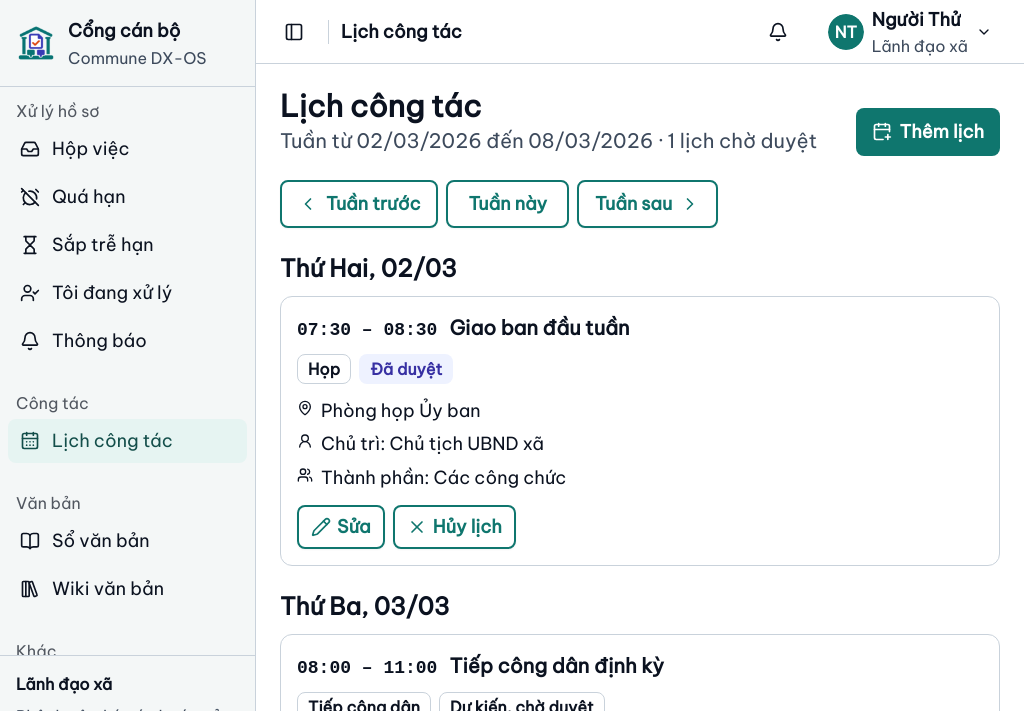
Test case: lịch công tác (#117) › trùng địa điểm: hiện câu tiếng Việt của CSDL (400, mã 23P01)
The width and height of the screenshot is (1024, 711).
Click the button "Thêm lịch".
click(928, 132)  # box top-left (856, 108), bottom-right (1000, 156)
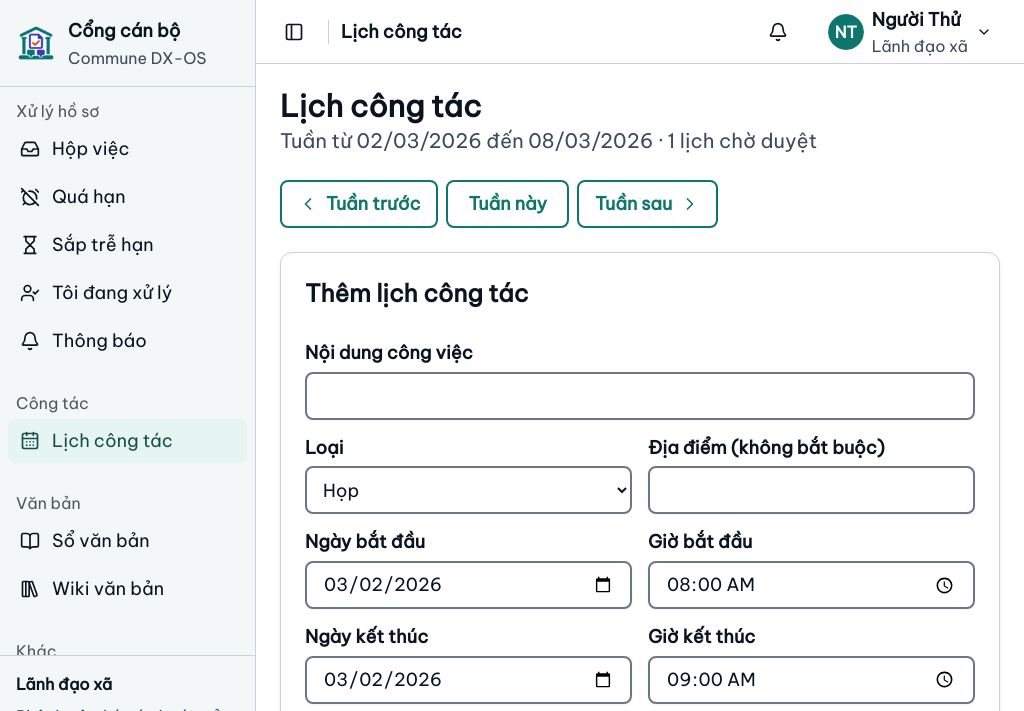
Type "Họp trùng phòng" into the field labelled "Nội dung công việc".
click(640, 396); type("Họp trùng phòng")  # box top-left (305, 372), bottom-right (975, 420)
(page scrolled)
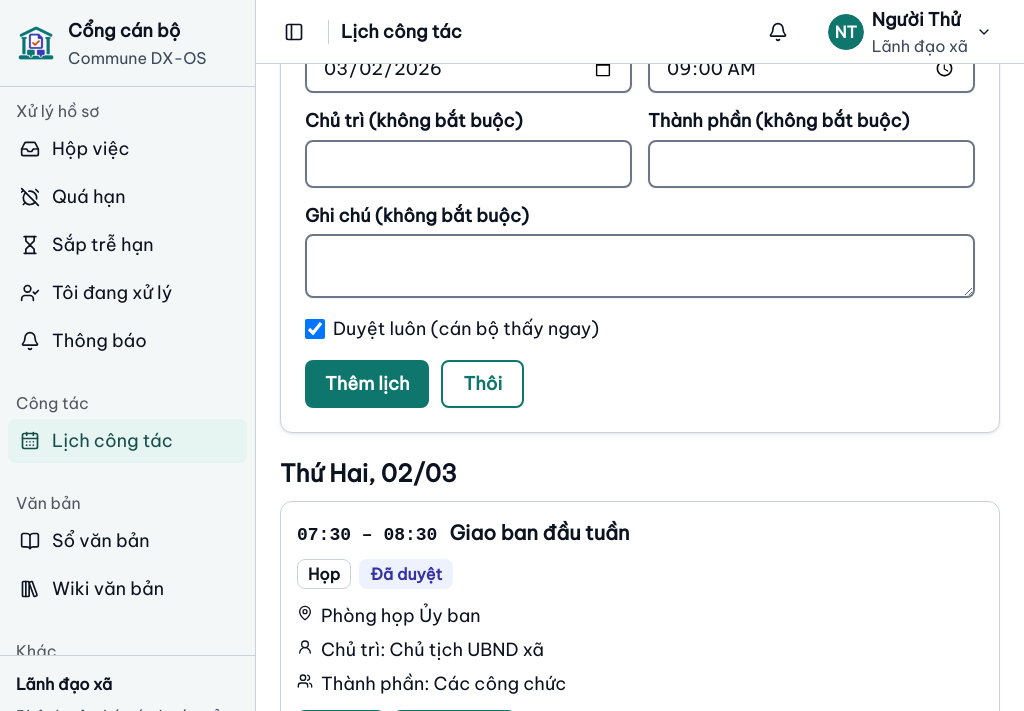
Click the button "Thêm lịch".
click(367, 384)  # box top-left (305, 360), bottom-right (430, 408)
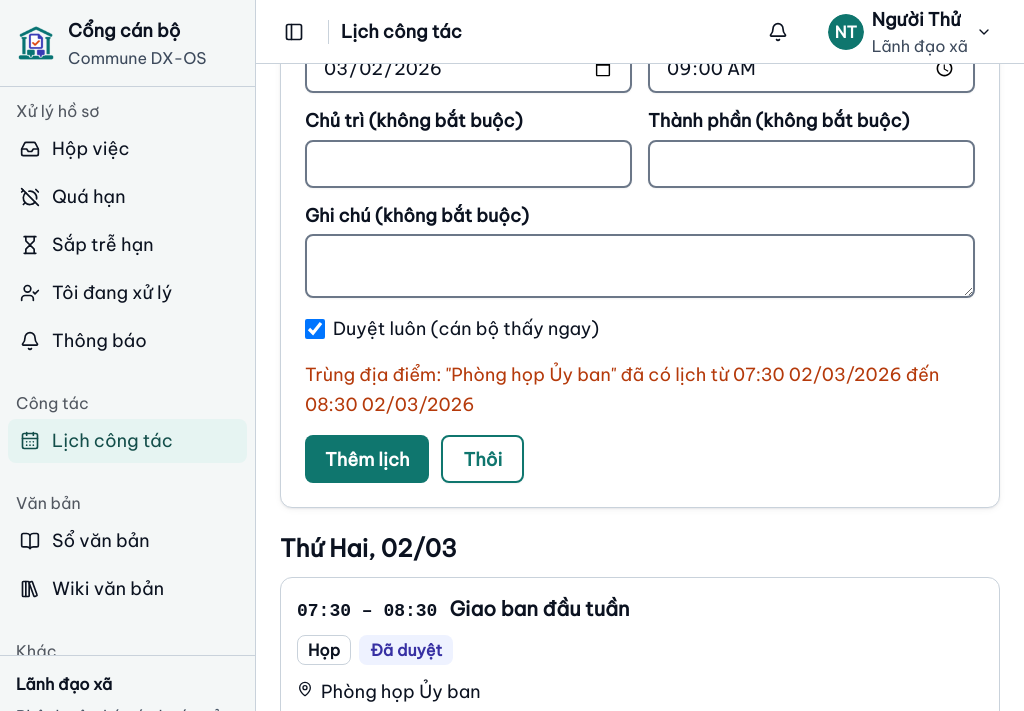
Expected: the message shows "Trùng địa điểm: \"Phòng họp Ủy ban\"", top-left (305, 363), bottom-right (939, 416)
